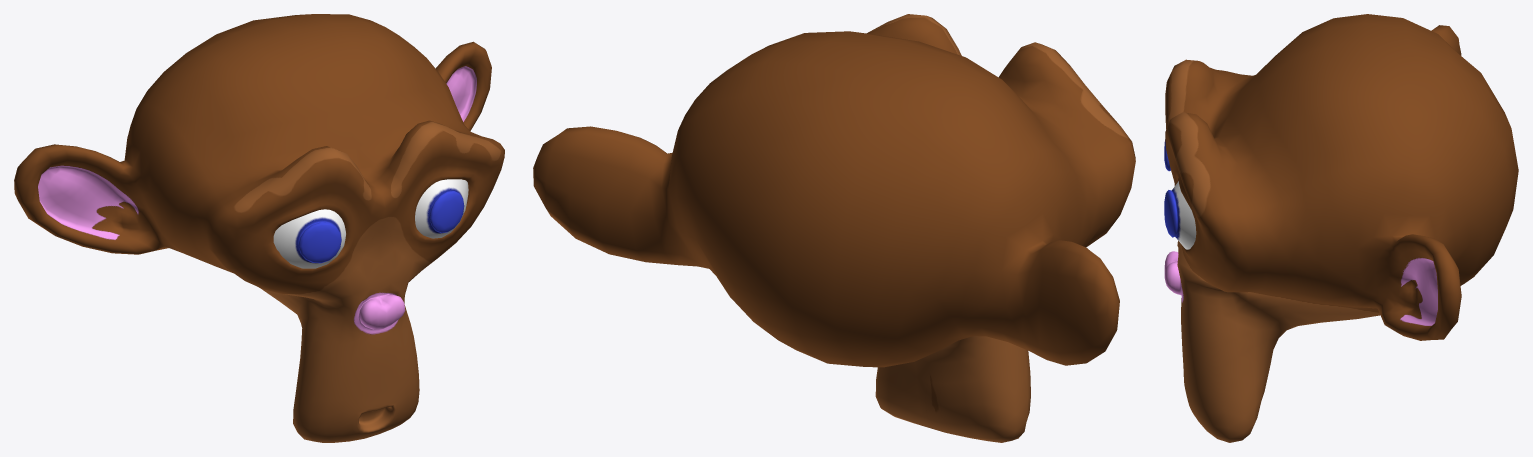
File: monkey.obj
3 renders of one model, left to right at view 1: azimuth 30°, elevation 25°; view 2: azimuth 150°, elevation 25°; view 3: azimuth 270°, elevation 25°, orthographic. The views are drawn at different scales.
Parts seen in each view (by area): view 1: Suzanne; view 2: Suzanne; view 3: Suzanne.
Boxes of the visible parts, <box> form: Suzanne: <box>14,14,504,442</box>; Suzanne: <box>533,14,1135,442</box>; Suzanne: <box>1164,14,1518,442</box>.
Bounding box in the file's own units: 2.65 × 1.91 × 1.6.
Materials: 1 (1 with a texture image).
